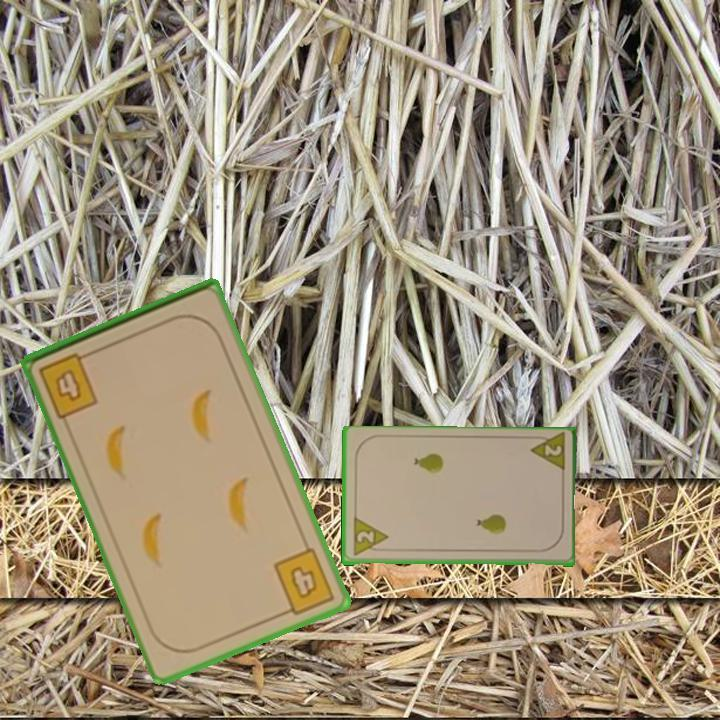2p: (526, 432, 568, 476), (350, 516, 390, 559)
4b: (270, 544, 338, 619), (35, 348, 101, 421)
